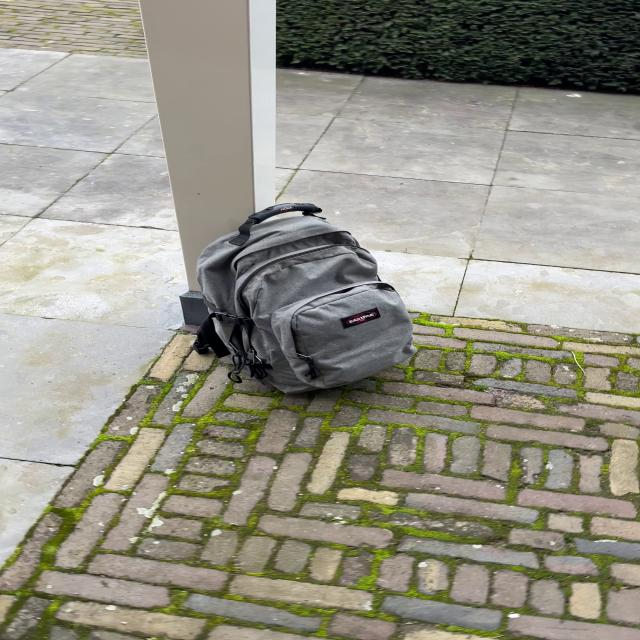backpack: (174, 196, 423, 402)
